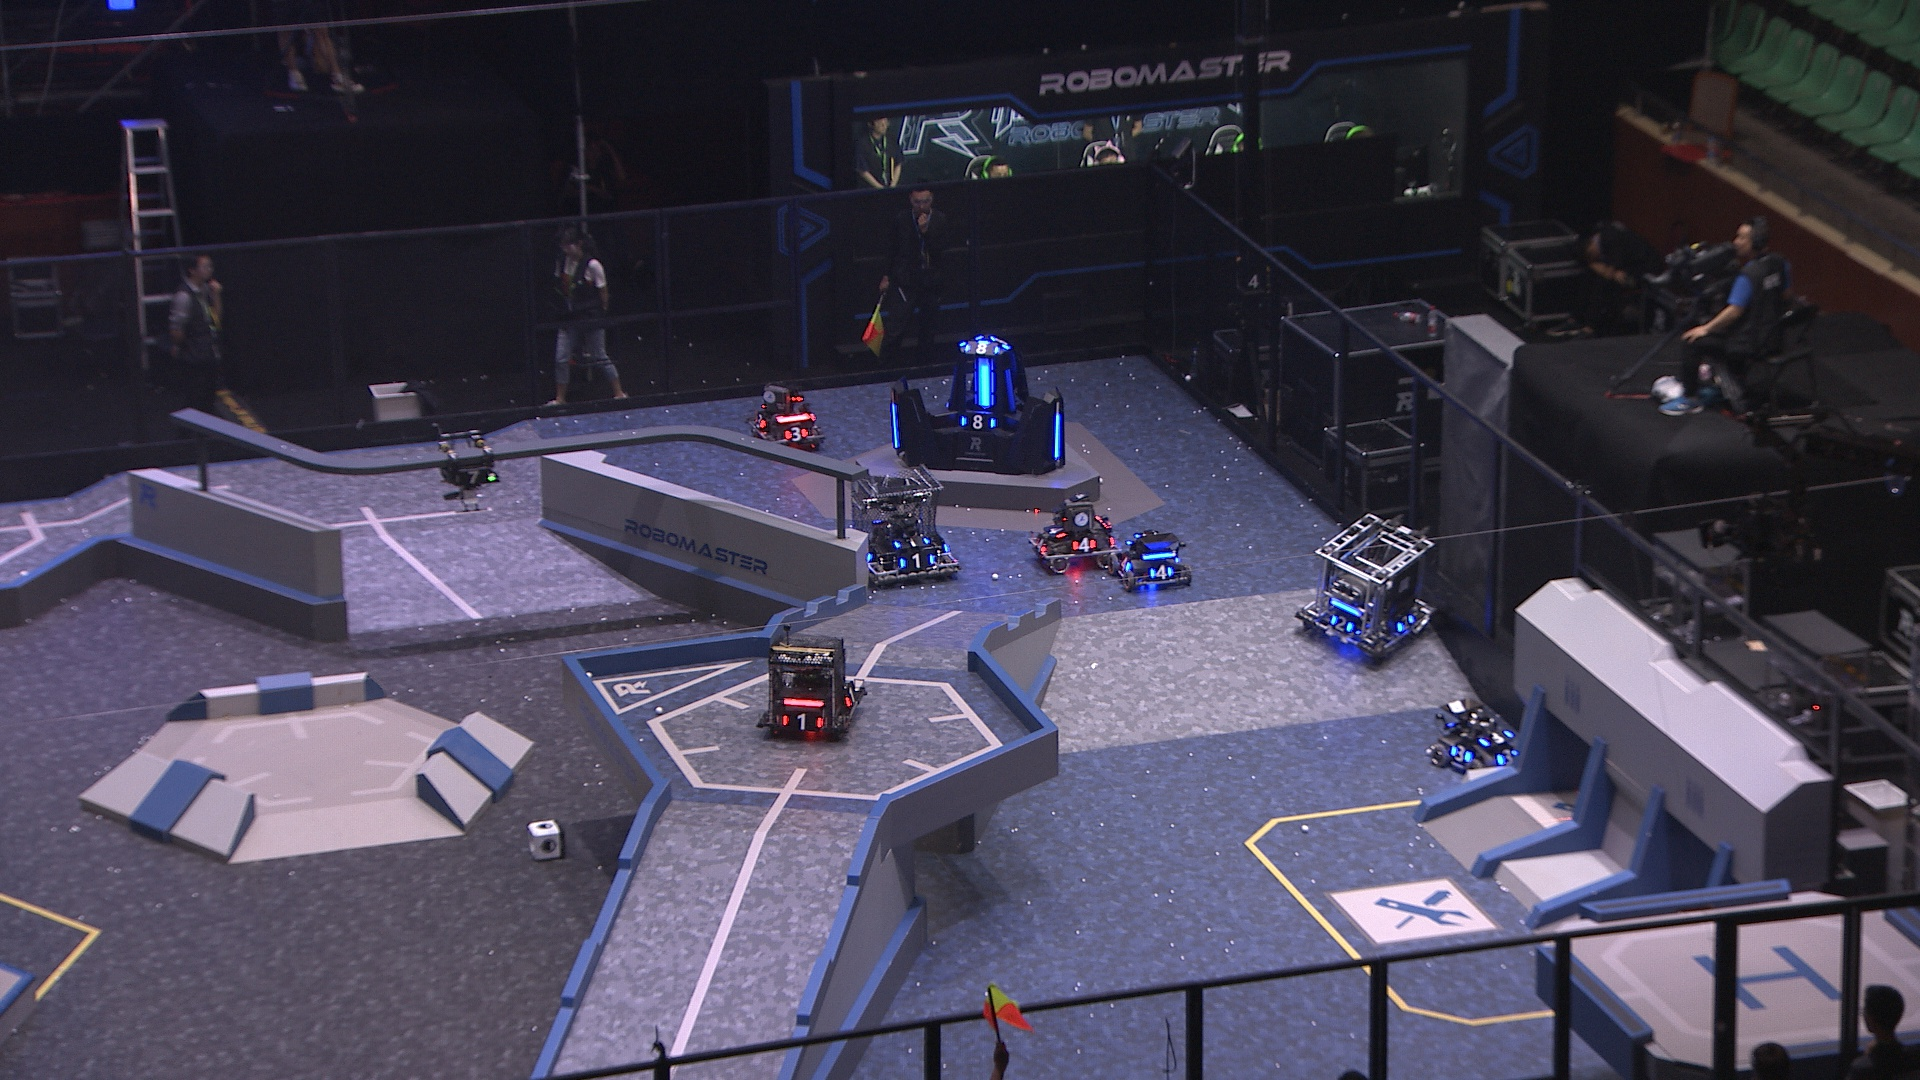armor: (782, 709, 825, 735), (1004, 363, 1021, 415), (455, 465, 495, 488), (898, 551, 935, 575), (973, 361, 992, 409), (889, 531, 932, 551), (1477, 725, 1515, 746), (959, 413, 998, 433), (963, 342, 1004, 360), (1447, 744, 1476, 766), (1495, 746, 1523, 769), (1145, 560, 1174, 582), (891, 405, 905, 450), (779, 423, 808, 443), (1328, 613, 1357, 633), (1051, 414, 1063, 460), (1043, 520, 1068, 541), (1395, 611, 1416, 636), (840, 684, 858, 712), (1069, 538, 1098, 555), (1114, 553, 1134, 578), (1031, 531, 1051, 555), (752, 407, 770, 433)
base: (887, 330, 1072, 475)
car: (1284, 512, 1437, 666), (843, 462, 955, 591), (756, 626, 868, 738), (1424, 692, 1532, 782), (1021, 489, 1122, 574), (1106, 524, 1192, 593), (742, 384, 822, 456)
watcher: (436, 431, 501, 513)
